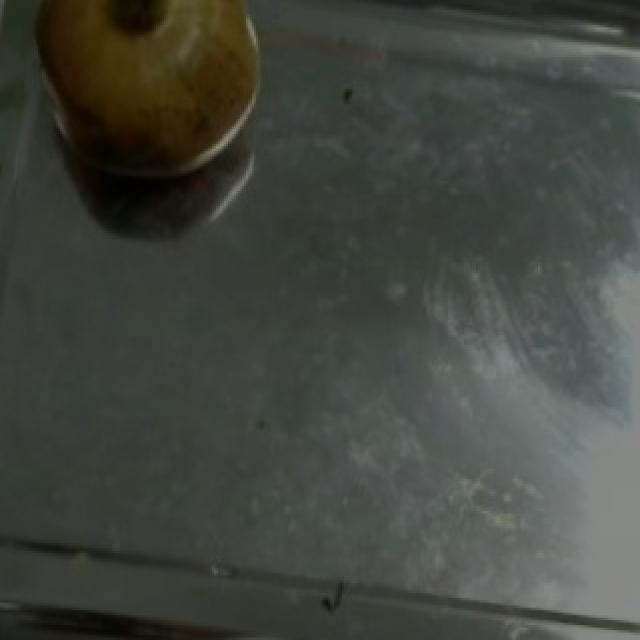fruit: (6, 0, 288, 206)
